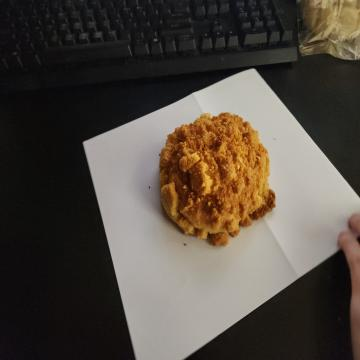soboru_bread: (157, 111, 279, 248)
